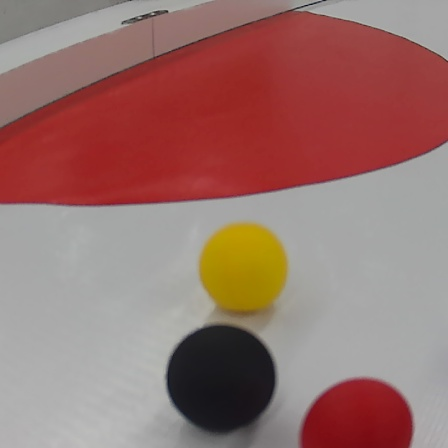black: (166, 325, 275, 430)
red: (296, 376, 418, 447)
red_base: (3, 6, 448, 206)
yellow: (195, 226, 293, 313)
